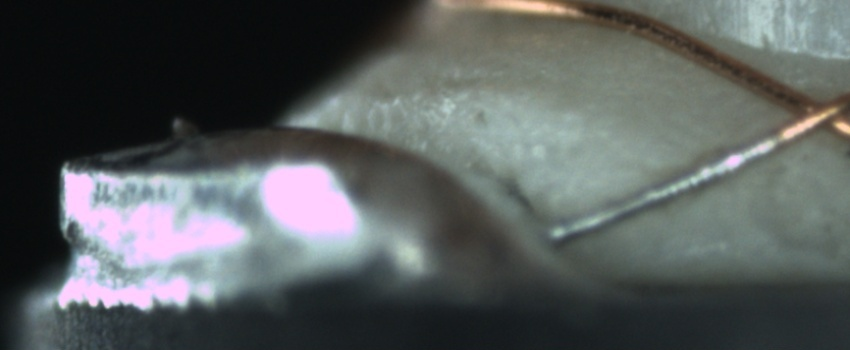CL: (765, 77, 848, 148)
TS: (547, 132, 779, 240)
